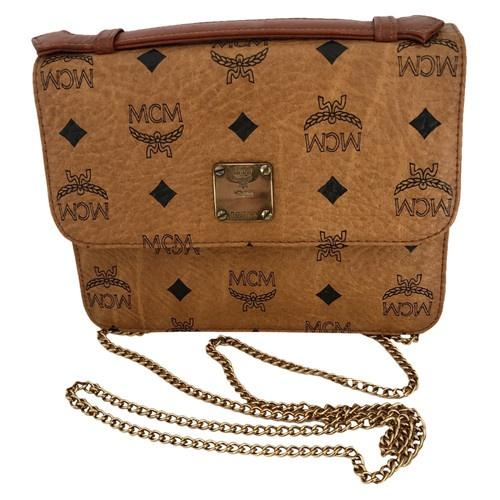MCM: (36, 40, 464, 335)
